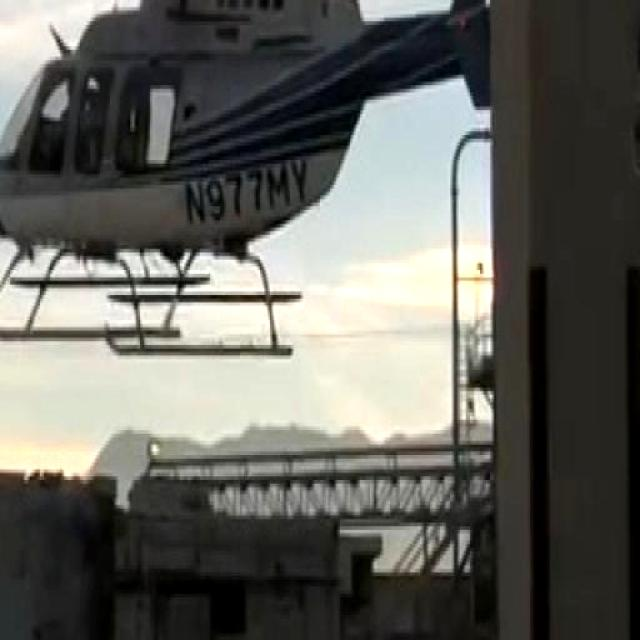drone: (0, 0, 488, 376)
